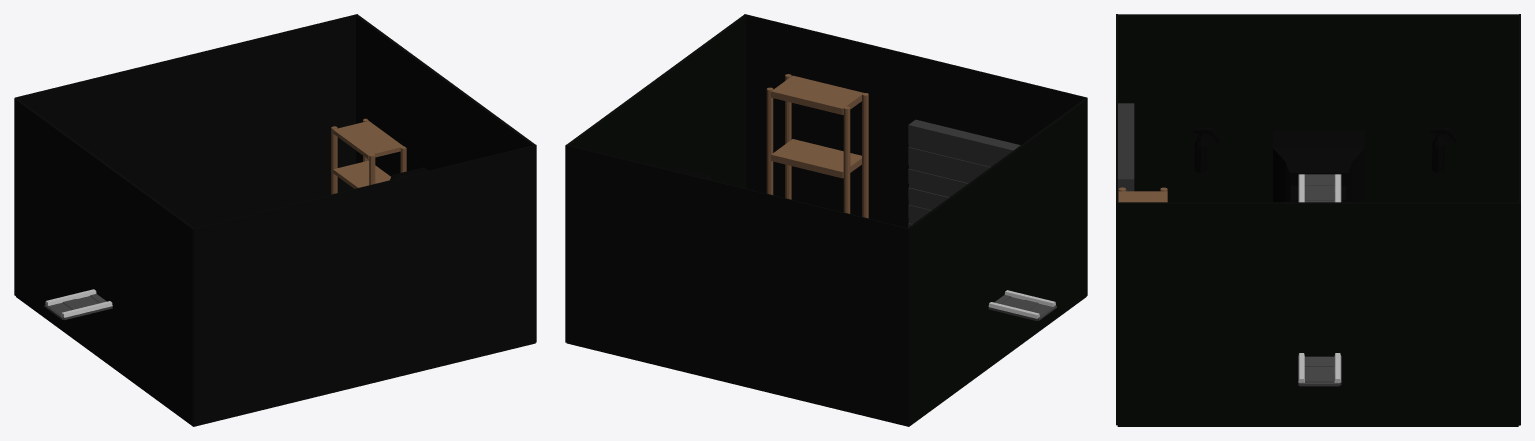
Rendered from room2.obj.
The picture shows the model from 3 angles, left to right: view 1: azimuth 30°, elevation 25°; view 2: azimuth 150°, elevation 25°; view 3: azimuth 270°, elevation 25°; orthographic projection. The views are drawn at different scales.
Visible parts, largest first — view 1: RoomConveyor walls pCube12, RoomConveyor walls pCube15, RoomConveyor walls pCube10, RoomConveyor pCube7 walls, Shelf2 pCube1, Shelf2 pCube2, RoomConveyor walls pCube16, RoomConveyor updatedBelt; view 2: RoomConveyor walls pCube15, RoomConveyor walls pCube10, RoomConveyor walls pCube12, RoomConveyor pCube7 walls, pCube1 Gate, Shelf1 pCube1, Shelf1 pCube2, Shelf1 pCylinder3, pCylinder4 Shelf1, Shelf1 pCylinder2, RoomConveyor updatedBelt, RoomConveyor walls pCube16 (+1 smaller); view 3: RoomConveyor pCube7 walls, RoomConveyor walls pCube10, RoomConveyor pCube11, RoomConveyor updatedBelt, pCube1 Gate, RoomConveyor walls pCube12, RoomConveyor walls pCube16, RoomConveyor walls pCube15, Shelf1 pCube1, FireExtinguisher1 pCylinder1, RoomConveyor polySurface9, FireExtinguisher2 pCylinder1 (+1 smaller).
Boxes of the visible parts, x1,y1,x2,y2 form: RoomConveyor walls pCube12: [193, 144, 536, 425]; RoomConveyor walls pCube15: [15, 14, 357, 227]; RoomConveyor walls pCube10: [14, 98, 193, 425]; RoomConveyor pCube7 walls: [356, 15, 535, 176]; Shelf2 pCube1: [333, 121, 403, 159]; Shelf2 pCube2: [333, 160, 390, 188]; RoomConveyor walls pCube16: [16, 296, 535, 426]; RoomConveyor updatedBelt: [44, 294, 112, 320]; RoomConveyor walls pCube15: [565, 144, 908, 425]; RoomConveyor walls pCube10: [908, 98, 1087, 425]; RoomConveyor walls pCube12: [744, 14, 1087, 227]; RoomConveyor pCube7 walls: [566, 15, 746, 188]; pCube1 Gate: [908, 119, 1020, 227]; Shelf1 pCube1: [771, 75, 863, 114]; Shelf1 pCube2: [771, 139, 861, 178]; Shelf1 pCylinder3: [862, 93, 868, 218]; pCylinder4 Shelf1: [843, 106, 850, 213]; Shelf1 pCylinder2: [766, 87, 773, 194]; RoomConveyor updatedBelt: [988, 295, 1056, 320]; RoomConveyor walls pCube16: [566, 296, 1086, 426]; RoomConveyor pCube7 walls: [1117, 202, 1520, 425]; RoomConveyor walls pCube10: [1118, 14, 1518, 202]; RoomConveyor pCube11: [1273, 130, 1364, 202]; RoomConveyor updatedBelt: [1298, 174, 1341, 386]; pCube1 Gate: [1118, 103, 1134, 202]; RoomConveyor walls pCube12: [1116, 14, 1117, 425]; RoomConveyor walls pCube16: [1117, 425, 1518, 426]; RoomConveyor walls pCube15: [1519, 14, 1520, 425]; Shelf1 pCube1: [1118, 191, 1167, 202]; FireExtinguisher1 pCylinder1: [1194, 135, 1207, 172]; RoomConveyor polySurface9: [1334, 174, 1341, 382]; FireExtinguisher2 pCylinder1: [1432, 135, 1444, 172].
Bounding box in the file's own units: 521 × 223 × 365.
